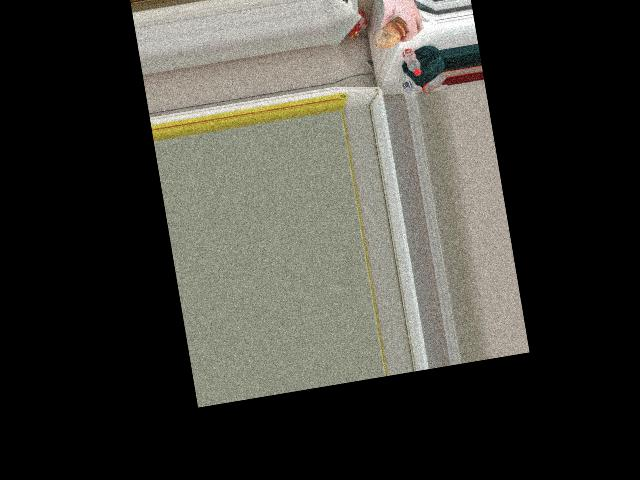sweet_potato: (377, 15, 411, 50)
